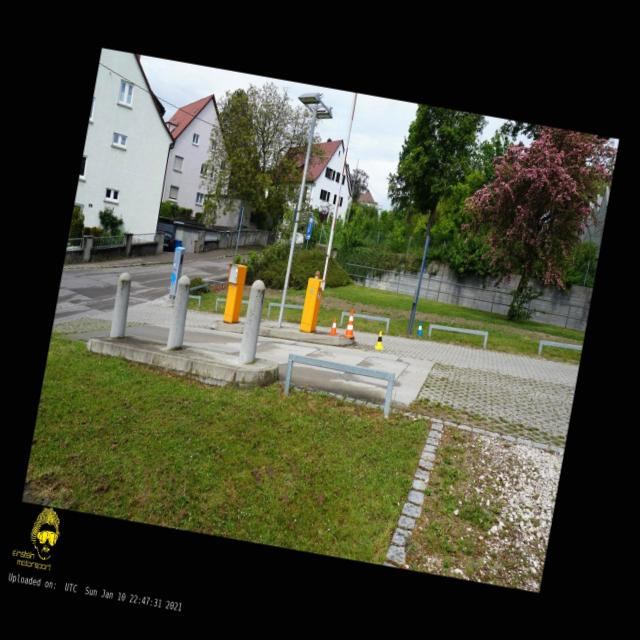blue_cone: (416, 320, 424, 335)
large_orange_cone: (343, 308, 358, 338)
orange_cone: (329, 316, 339, 334)
yellow_cone: (374, 330, 385, 350)
